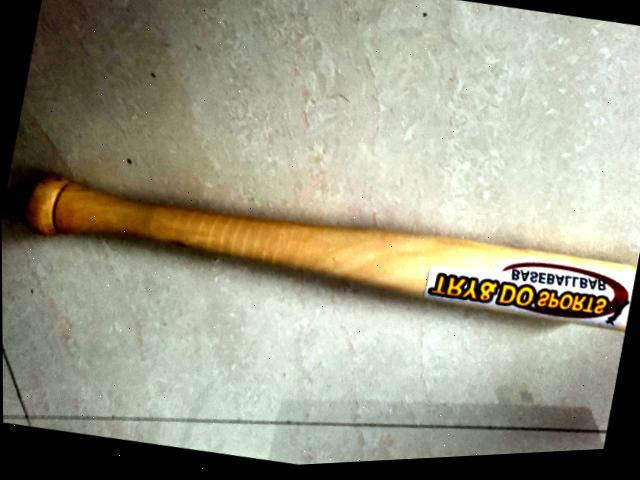baseball bat: (1, 107, 640, 407)
